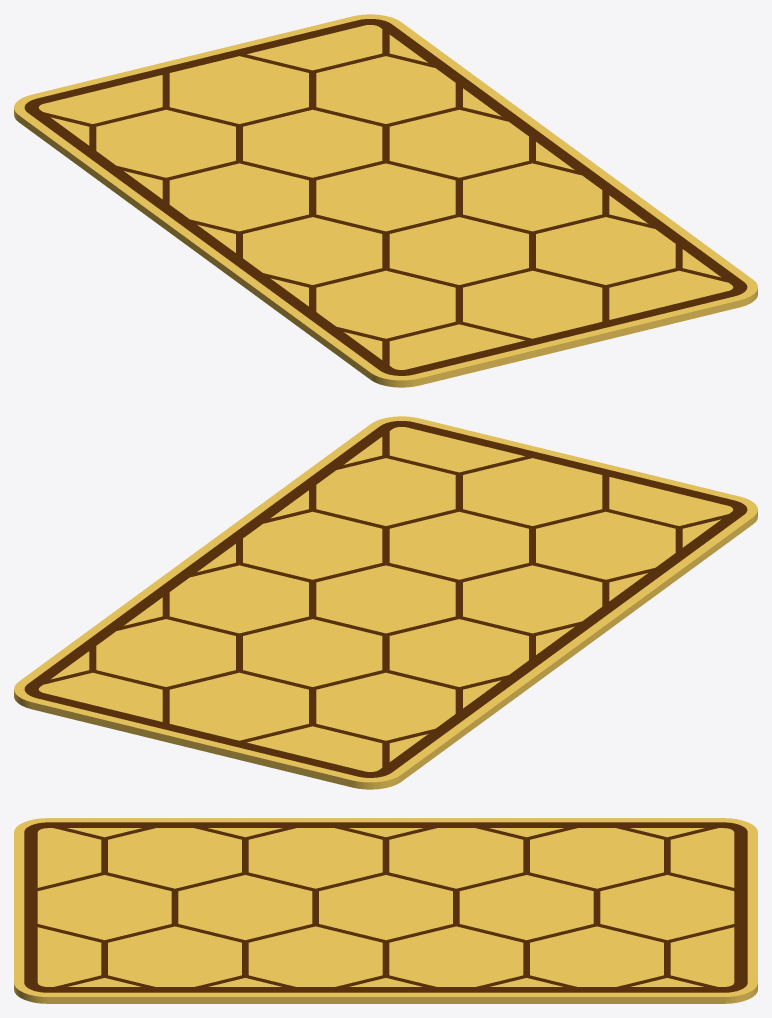
File: r2c_cardback.fbx
The picture shows the model from 3 angles, top to bottom: view 1: azimuth 30°, elevation 25°; view 2: azimuth 150°, elevation 25°; view 3: azimuth 270°, elevation 25°; orthographic projection. The views are drawn at different scales.
Visible parts, largest first — view 1: 개체_29, 개체_30, 개체_28, 개체_3, 개체_1, 개체_14, 개체_4, 개체_2, 개체_20, 개체_22, 개체_10, 개체_16 (+8 smaller); view 2: 개체_29, 개체_30, 개체_28, 개체_2, 개체_4, 개체_1, 개체_14, 개체_3, 개체_16, 개체_18, 개체_8, 개체_22 (+8 smaller); view 3: 개체_29, 개체_30, 개체_28, 개체_4, 개체_14, 개체_2, 개체_3, 개체_1, 개체_18, 개체_20, 개체_8, 개체_10 (+18 smaller).
Part boxes in pixels (<box>): 개체_29: <box>14,14,757,387</box>; 개체_30: <box>24,19,747,375</box>; 개체_28: <box>43,29,727,365</box>; 개체_3: <box>389,217,528,284</box>; 개체_1: <box>316,163,455,231</box>; 개체_14: <box>169,56,308,123</box>; 개체_4: <box>463,270,602,338</box>; 개체_2: <box>243,109,382,177</box>; 개체_20: <box>243,217,382,284</box>; 개체_22: <box>316,270,455,338</box>; 개체_10: <box>389,109,528,177</box>; 개체_16: <box>96,109,235,177</box>; 개체_29: <box>14,416,757,789</box>; 개체_30: <box>24,421,747,777</box>; 개체_28: <box>44,431,728,767</box>; 개체_2: <box>243,619,382,686</box>; 개체_4: <box>463,458,602,525</box>; 개체_1: <box>316,565,455,633</box>; 개체_14: <box>169,672,308,740</box>; 개체_3: <box>389,511,528,579</box>; 개체_16: <box>316,672,455,740</box>; 개체_18: <box>389,619,528,686</box>; 개체_8: <box>243,511,382,579</box>; 개체_22: <box>536,511,675,579</box>; 개체_29: <box>14,818,757,1003</box>; 개체_30: <box>24,822,747,992</box>; 개체_28: <box>37,828,734,986</box>; 개체_4: <box>37,875,171,940</box>; 개체_14: <box>600,875,734,940</box>; 개체_2: <box>459,875,593,940</box>; 개체_3: <box>178,875,312,940</box>; 개체_1: <box>319,875,452,939</box>; 개체_18: <box>389,828,523,888</box>; 개체_20: <box>248,828,382,888</box>; 개체_8: <box>248,926,382,986</box>; 개체_10: <box>389,926,523,986</box>.
Bounding box in the file's own units: 11.22 × 0.2 × 19.71.
